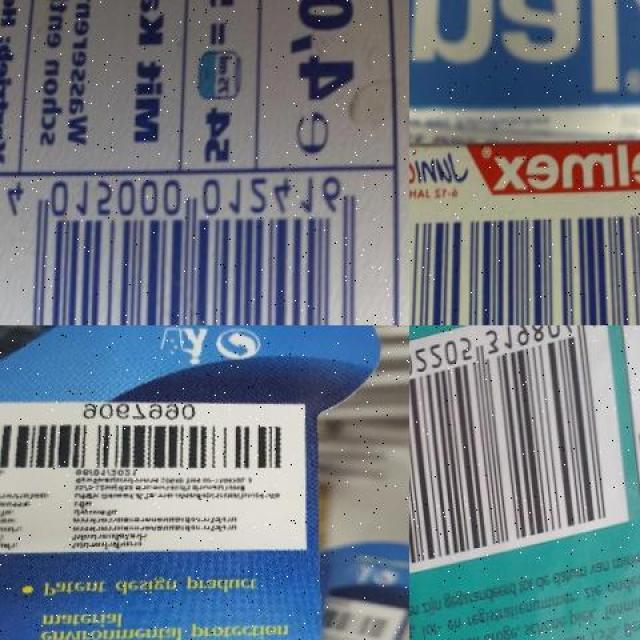Barcode: (0, 171, 379, 325), (409, 326, 631, 586), (409, 203, 640, 325), (0, 400, 296, 480)
